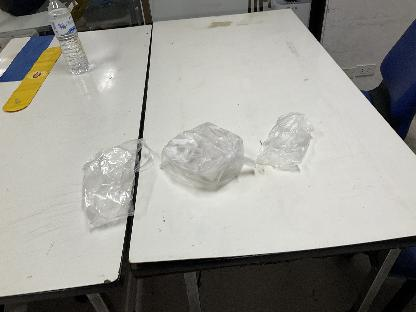Others: (78, 125, 154, 234), (156, 117, 260, 193), (255, 106, 321, 174)
